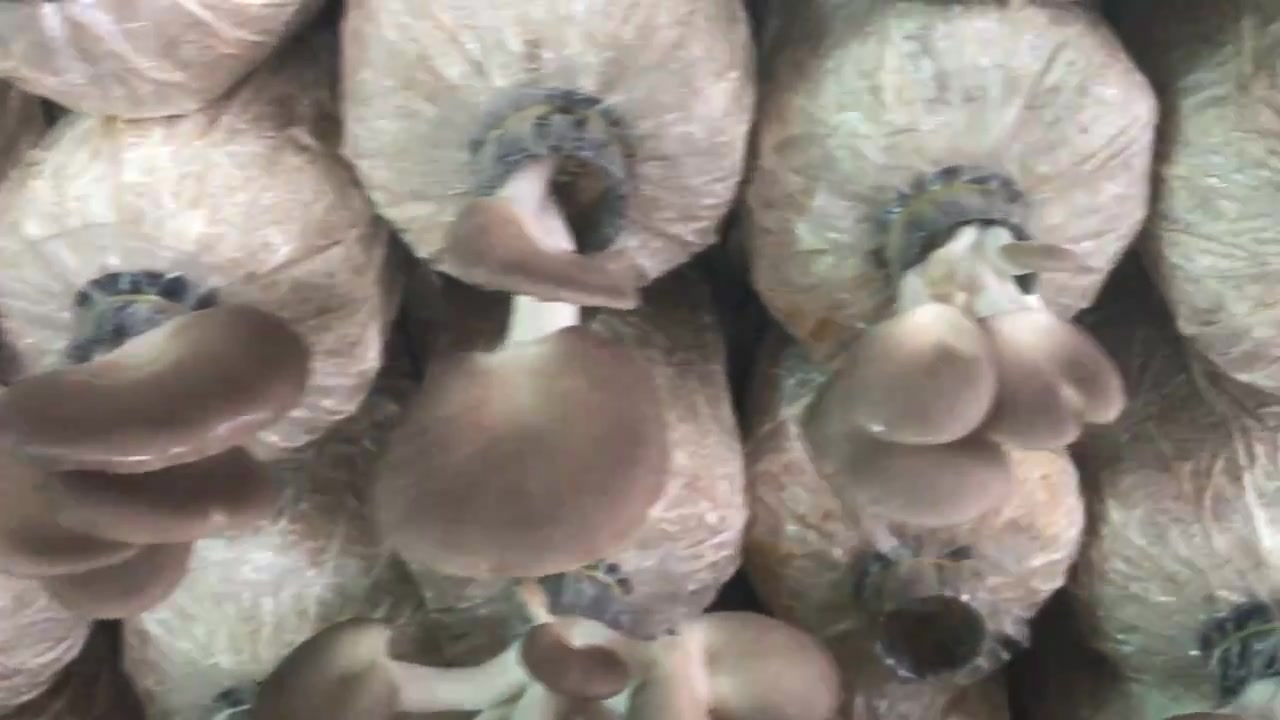nam: (367, 106, 671, 580), (799, 175, 1127, 531), (1, 280, 311, 619), (254, 559, 841, 720)
